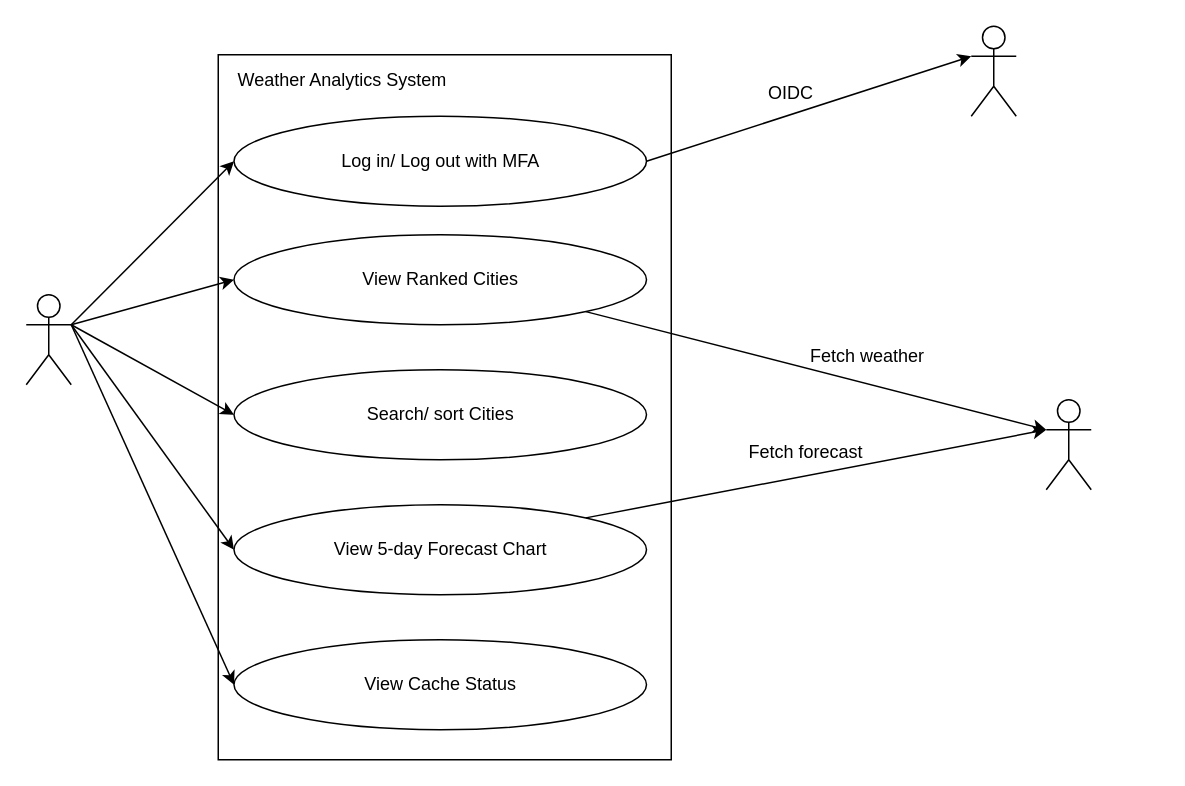
This 1185x786 diagram has some shape labels left out. The shapes that lost their labels are listed below. From the top down, each one's centre as x and y in pixels, then its label:
At (993,70): "Auth0".
At (48,339): "User".
At (1068,444): "OpenWeatherMap API".
